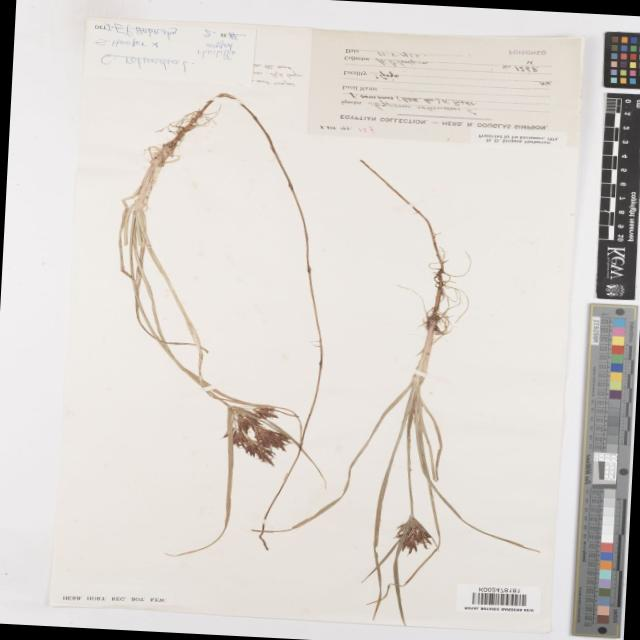cyperus: (210, 402, 306, 466), (388, 512, 444, 559)
